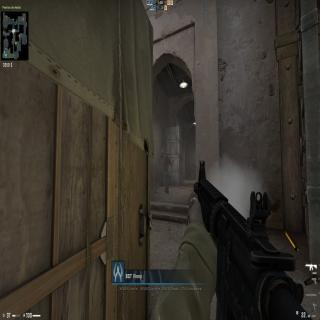T-Head: (166, 152, 170, 156)
